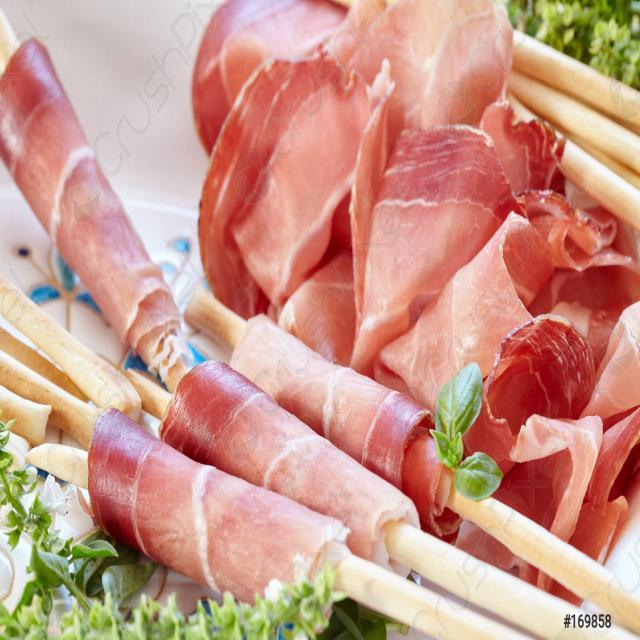Grissini: (94, 306, 630, 640)
